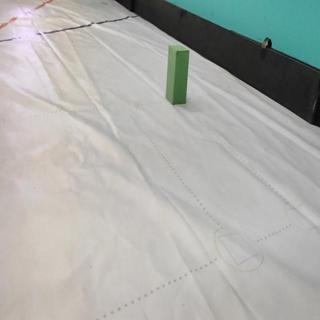greenbox: (167, 42, 190, 106)
